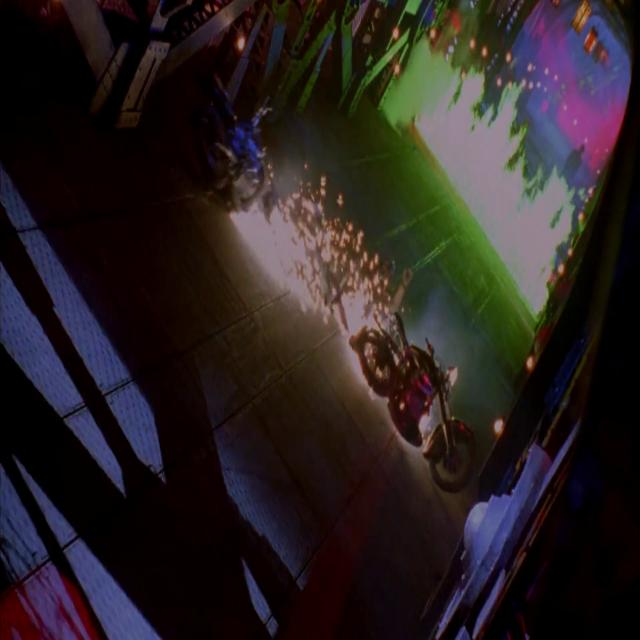Motorbike: (346, 306, 499, 532), (194, 98, 284, 241)
